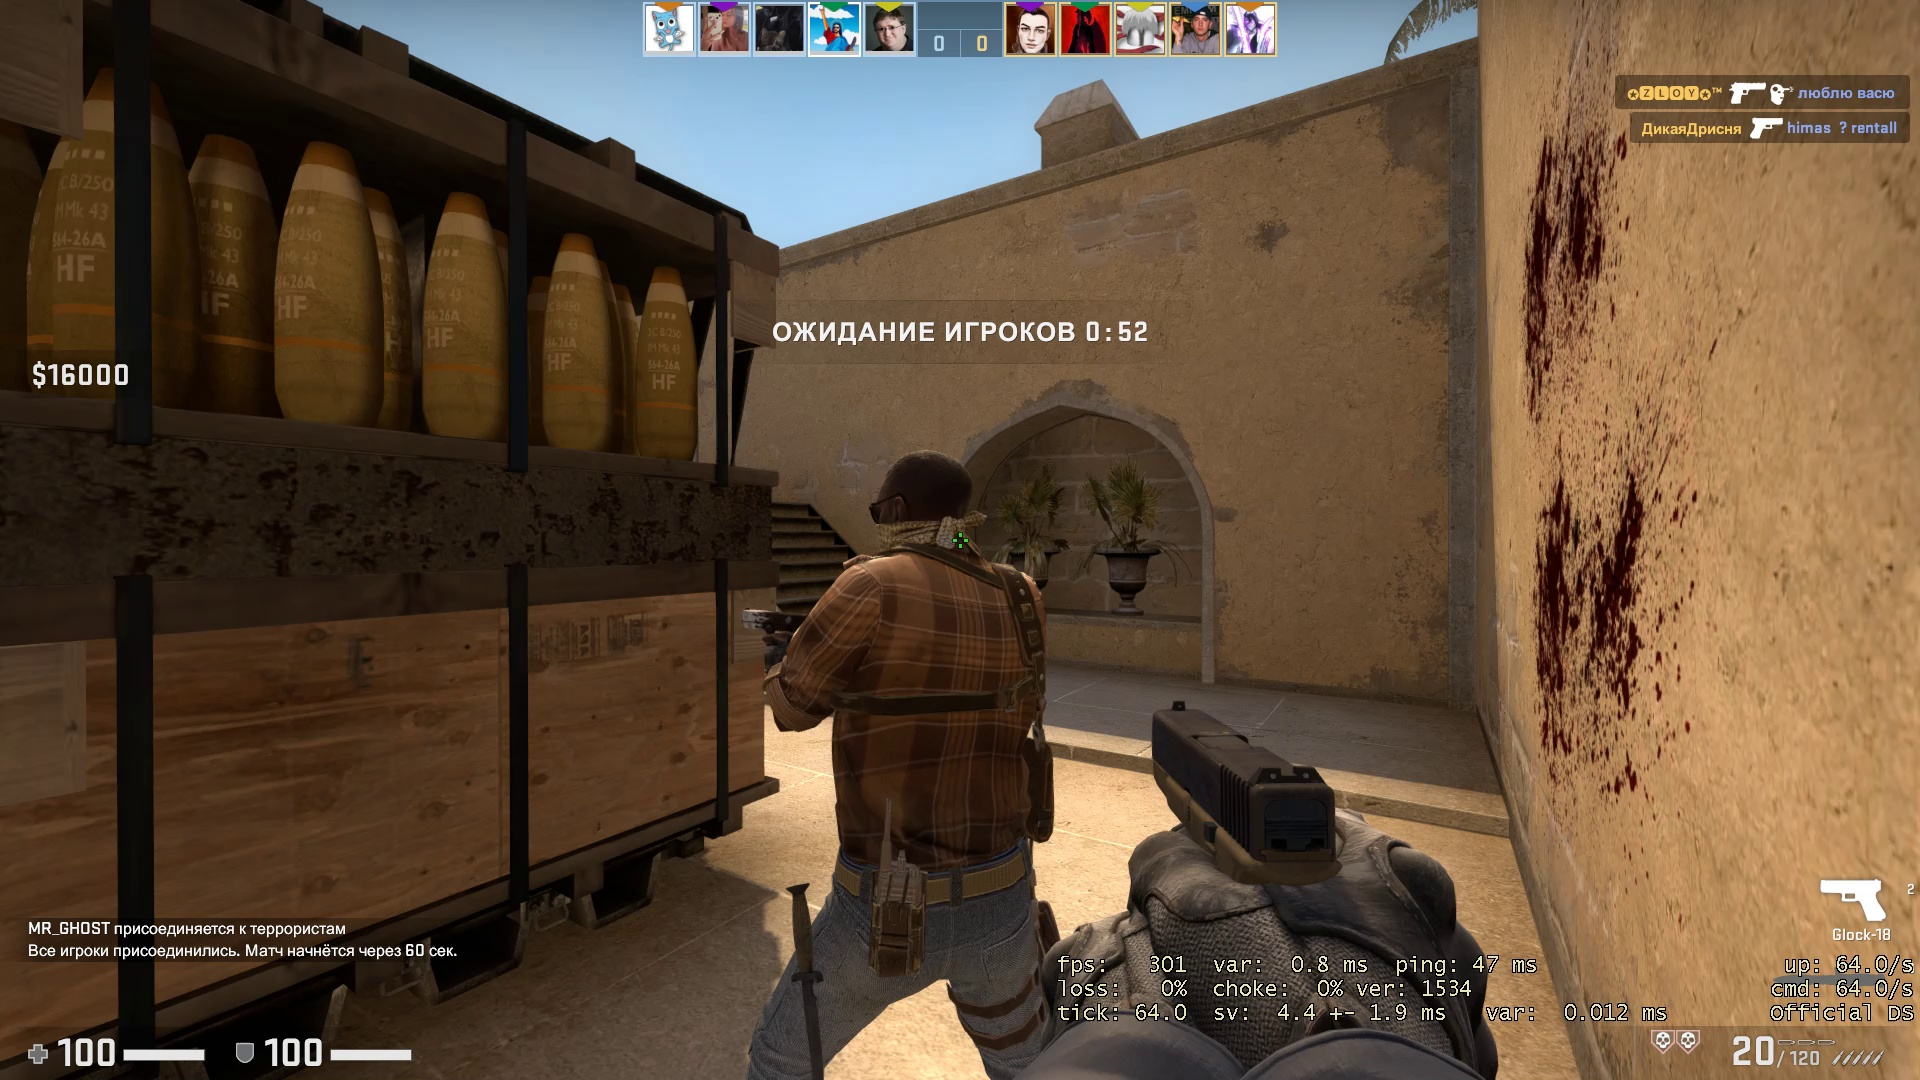ter: (774, 443, 1089, 1060)
ter_cops: (870, 448, 981, 582)
